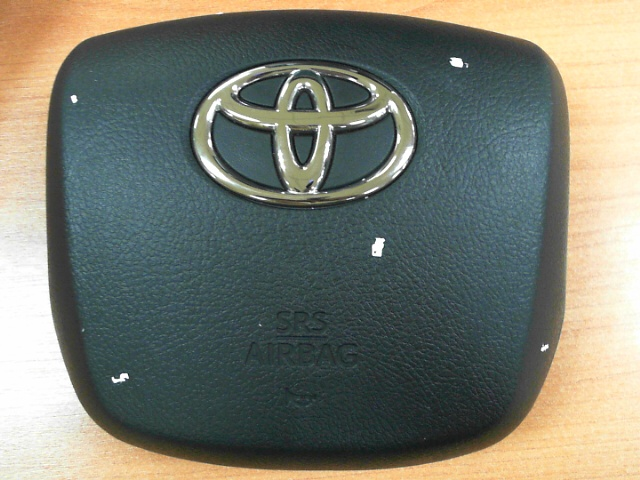Airbag: (371, 236, 385, 258), (110, 372, 129, 385), (449, 57, 469, 69), (540, 343, 550, 353), (70, 95, 79, 104)
